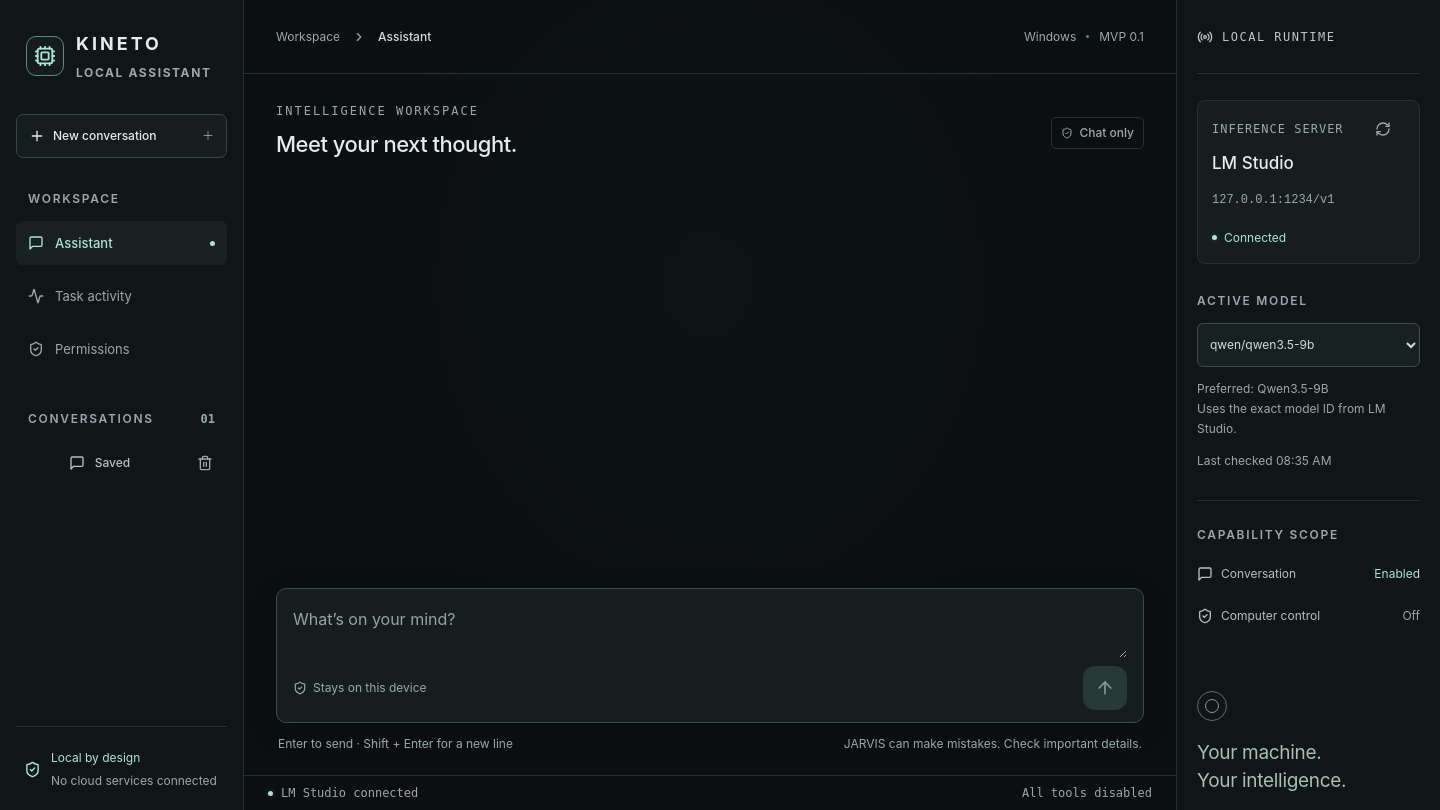
Test: assistant workflow › renders model text as plain text, never executable HTML
The width and height of the screenshot is (1440, 810).
(page scrolled)
Click the button titled "Saved".
click(100, 463)  # box [16, 441, 183, 485]
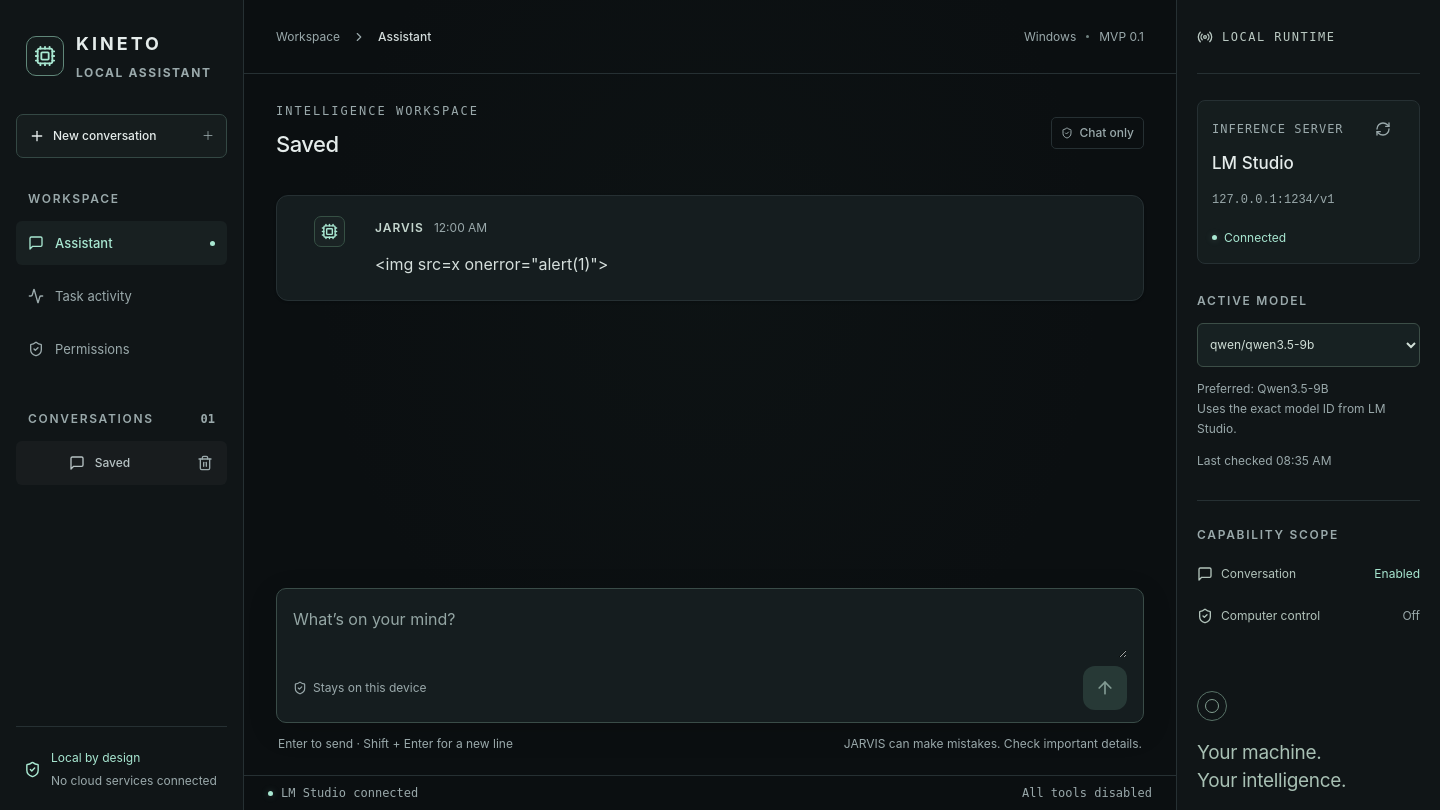
Expected: the text "<img src=x onerror=\"alert(1)\">" is shown, [375, 254, 608, 274]
